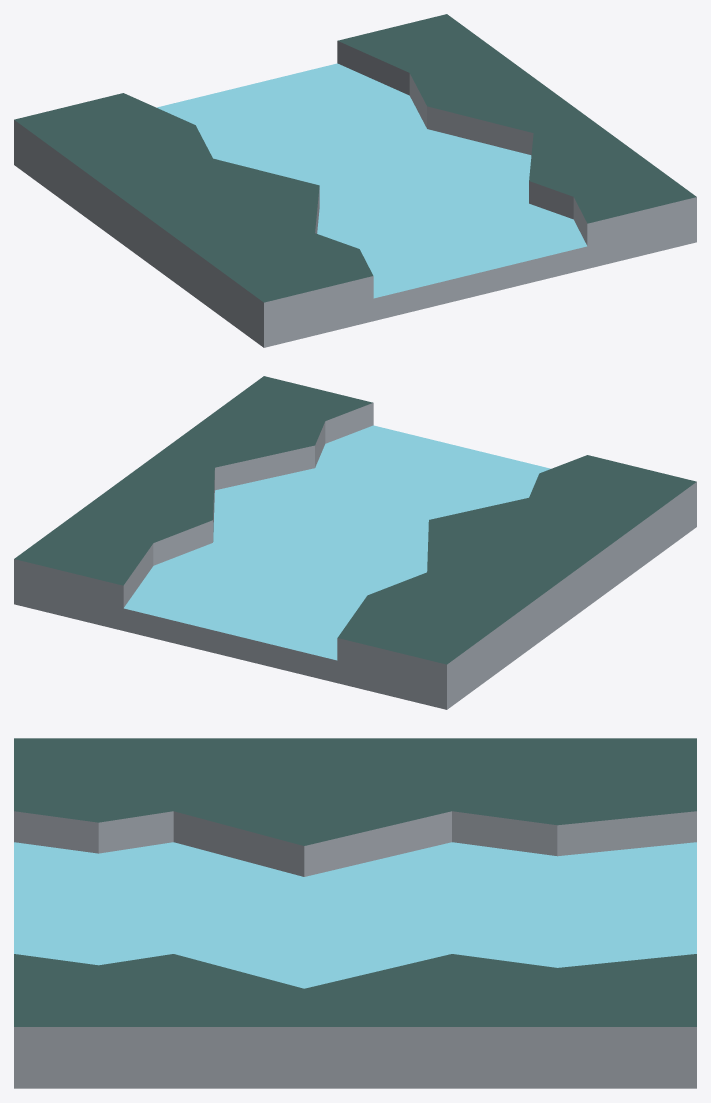
The model's file is Plate_River_01.obj.
3 views of the same model, one above another, from view 1: azimuth 30°, elevation 25°; view 2: azimuth 150°, elevation 25°; view 3: azimuth 270°, elevation 25° (orthographic). The views are drawn at different scales.
Parts seen in each view (by area): view 1: Mesh1_Plate_River_Model.001; view 2: Mesh1_Plate_River_Model.001; view 3: Mesh1_Plate_River_Model.001.
Boxes of the visible parts, bbox=[...] form: Mesh1_Plate_River_Model.001: bbox=[14, 14, 696, 347]; Mesh1_Plate_River_Model.001: bbox=[14, 376, 696, 709]; Mesh1_Plate_River_Model.001: bbox=[14, 738, 696, 1088].
Bounding box in the file's own units: 3 × 0.3 × 3.
